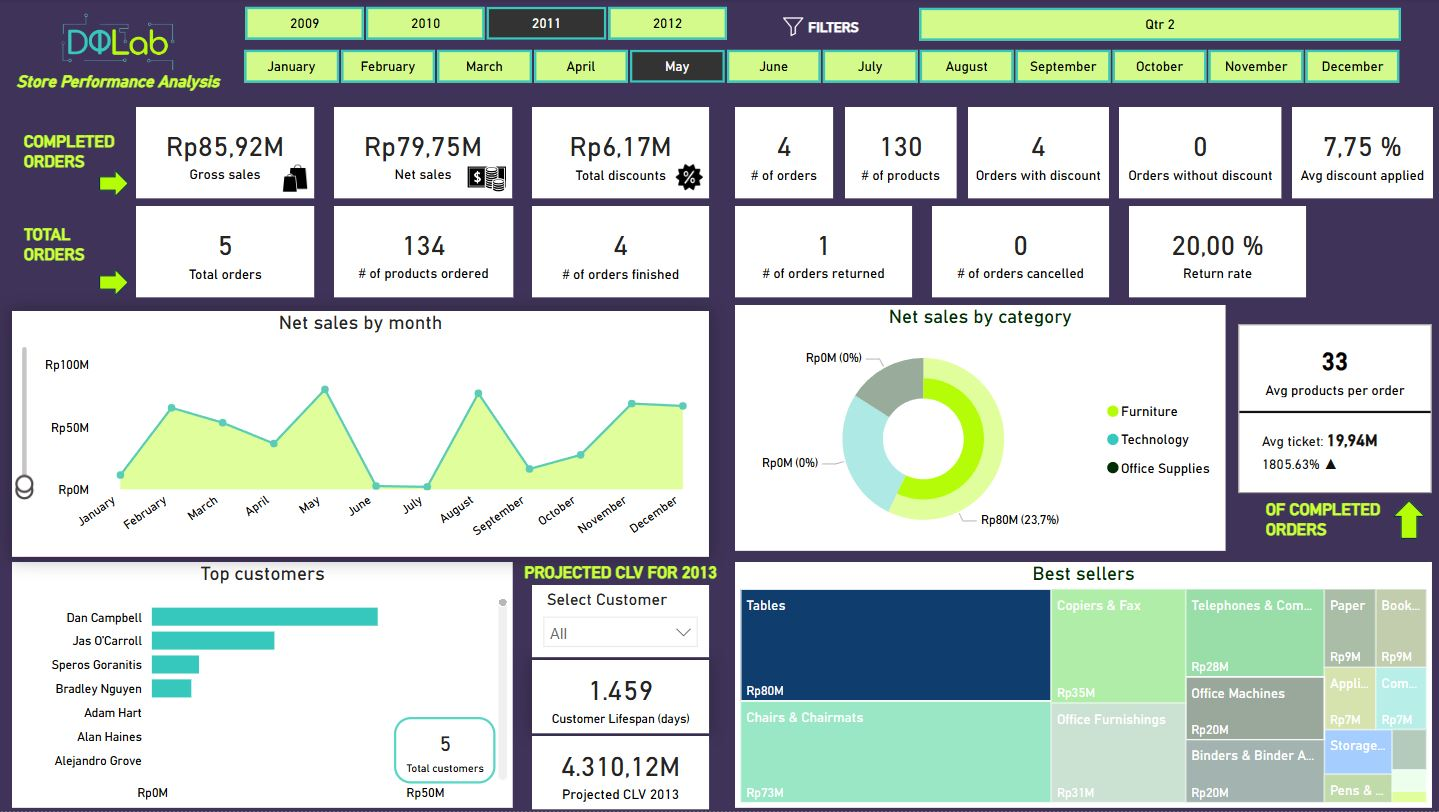

The dashboard page shown, as its layout file describes it:
{"tool":"powerbi","page":{"name":"DQLab Sales Analysis","canvas":[1280,720],"ordinal":0},"visuals":[{"type":"card","fields":{"Values":["clean_data.Net Sales"]},"box":[296.1,95.8,157.8,80.7],"z":0},{"type":"card","fields":{"Values":["clean_data.Suma Descuentos"]},"box":[471.6,95.8,156.9,80.7],"z":1000},{"type":"slicer","fields":{"Values":["Calendar.Date.Variation.Date Hierarchy.Quarter"]},"box":[789.2,0.9,476.9,39],"z":2000},{"type":"slicer","fields":{"Values":["Calendar.Date.Variation.Date Hierarchy.Year"]},"box":[191.5,0,476.9,38.1],"z":3000},{"type":"areaChart","title":"Net sales by month","fields":{"Y":["Sum(clean_data.sales)"],"Category":["Calendar.Date.Variation.Date Hierarchy.Month"]},"box":[10.2,271.4,618.2,218.4],"z":4000},{"type":"card","fields":{"Values":["clean_data.Total Orders"]},"box":[131.1,183.1,146.9,80.9],"z":5000},{"type":"card","fields":{"Values":["clean_data.# of Orders Completed"]},"box":[471.6,182.7,156.9,81.6],"z":6000},{"type":"card","fields":{"Values":["clean_data.# of Orders Returned"]},"box":[651.6,182.7,156.9,81.6],"z":7000},{"type":"card","fields":{"Values":["clean_data.# of Orders Cancelled"]},"box":[826.3,182.7,156.9,81.6],"z":8000},{"type":"card","fields":{"Values":["clean_data.Avg Discount Applied"]},"box":[651.6,95.8,156.9,80.7],"z":9000},{"type":"image","box":[27.9,8.4,154.3,60.4],"z":10000},{"type":"donutChart","title":"Net sales by category","fields":{"Category":["clean_data.product_category"],"Y":["Sum(clean_data.sales)"]},"box":[651.6,271.4,435,218.4],"z":11000},{"type":"treemap","title":"Best sellers","fields":{"Group":["clean_data.product_sub_category"],"Values":["Sum(clean_data.sales)"]},"box":[651.6,499.2,618.2,218.4],"z":12000},{"type":"clusteredBarChart","title":"Top customers","fields":{"Category":["clean_data.customer"],"Y":["Sum(clean_data.sales)"]},"box":[10.2,499.2,444.3,218.4],"z":13000},{"type":"cardVisual","fields":{"Data":["clean_data.Product Ticket Medio"]},"box":[1098.7,304.9,171,151.5],"z":14000},{"type":"card","fields":{"Values":["clean_data.Total Products Ordered"]},"box":[296.5,183.1,158,80.9],"z":15000},{"type":"card","fields":{"Values":["clean_data.gross_sales"]},"box":[131.1,95.8,147.2,80.7],"z":16000},{"type":"image","box":[414.6,136.6,39,44.6],"z":17000},{"type":"image","box":[593.1,141.3,35.3,34.4],"z":18000},{"type":"image","box":[236,178.4,42.8,47.3],"z":19000},{"type":"slicer","fields":{"Values":["Calendar.Date.Variation.Date Hierarchy.Month"]},"box":[191,38.2,1074.4,41.8],"z":20000},{"type":"textbox","box":[689.6,10.9,98.3,42.8],"z":21000},{"type":"card","fields":{"Values":["clean_data.Discount Orders"]},"box":[826.3,95.8,156.9,80.7],"z":22000},{"type":"image","box":[685.9,10.9,33.7,28.2],"z":23000},{"type":"card","fields":{"Values":["clean_data.No Discount Orders"]},"box":[1001.1,95.7,157.1,80.9],"z":24000},{"type":"card","fields":{"Values":["clean_data.Return Rate"]},"box":[1001.1,183.1,157.1,80.9],"z":25000},{"type":"card","fields":{"Values":["clean_data.Avg Customer Lifespan"]},"box":[471.3,586.6,157.1,64.1],"z":26000},{"type":"card","fields":{"Values":["clean_data.CLV"]},"box":[471.3,653.5,157.1,64.1],"z":27000},{"type":"textbox","box":[0,59.5,209.2,40.9],"z":28000},{"type":"slicer","fields":{"Values":["clean_data.customer"]},"box":[471.3,519.6,157.1,64.1],"z":29000},{"type":"textbox","box":[451.8,495.5,196.1,40.9],"z":30000}]}

Visuals, with their boxes in screenshot pixels (x1, y1, x2, y2), scaled from the page's 1280x720 canvas onto the 1439x812 screenshot:
card - clean_data.Net Sales: [333,108,510,199]
card - clean_data.Suma Descuentos: [530,108,707,199]
slicer - Calendar.Date.Variation.Date Hierarchy.Quarter: [887,1,1423,45]
slicer - Calendar.Date.Variation.Date Hierarchy.Year: [215,0,751,43]
"Net sales by month" areaChart: [11,306,706,552]
card - clean_data.Total Orders: [147,206,313,298]
card - clean_data.# of Orders Completed: [530,206,707,298]
card - clean_data.# of Orders Returned: [733,206,909,298]
card - clean_data.# of Orders Cancelled: [929,206,1105,298]
card - clean_data.Avg Discount Applied: [733,108,909,199]
image: [31,9,205,78]
"Net sales by category" donutChart: [733,306,1222,552]
"Best sellers" treemap: [733,563,1428,809]
"Top customers" clusteredBarChart: [11,563,511,809]
cardVisual - clean_data.Product Ticket Medio: [1235,344,1427,515]
card - clean_data.Total Products Ordered: [333,206,511,298]
card - clean_data.gross_sales: [147,108,313,199]
image: [466,154,510,204]
image: [667,159,706,198]
image: [265,201,313,255]
slicer - Calendar.Date.Variation.Date Hierarchy.Month: [215,43,1423,90]
textbox: [775,12,886,61]
card - clean_data.Discount Orders: [929,108,1105,199]
image: [771,12,809,44]
card - clean_data.No Discount Orders: [1125,108,1302,199]
card - clean_data.Return Rate: [1125,206,1302,298]
card - clean_data.Avg Customer Lifespan: [530,662,706,734]
card - clean_data.CLV: [530,737,706,809]
textbox: [0,67,235,113]
slicer - clean_data.customer: [530,586,706,658]
textbox: [508,559,728,605]
